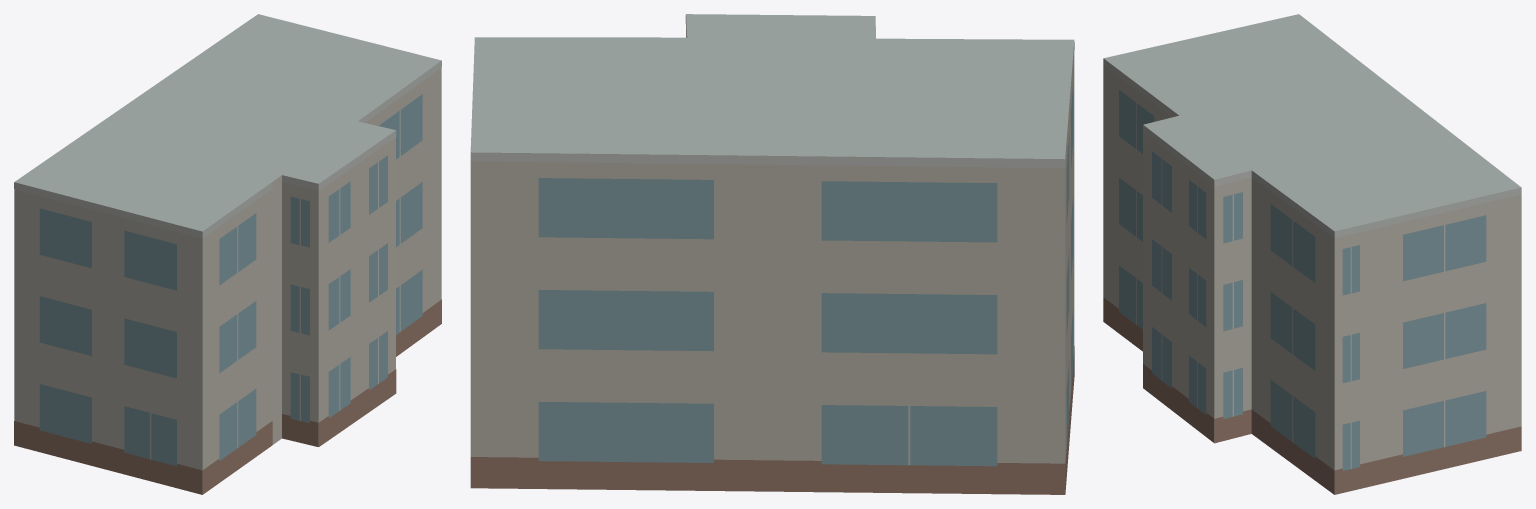
File: survey-upis-32707310.glb
The picture shows the model from 3 angles, left to right: view 1: azimuth 30°, elevation 25°; view 2: azimuth 150°, elevation 25°; view 3: azimuth 270°, elevation 25°; orthographic projection. The views are drawn at different scales.
Visible parts, largest first — view 1: survey-upis-32707310.tmp; view 2: survey-upis-32707310.tmp; view 3: survey-upis-32707310.tmp.
Boxes of the visible parts, left/top/right/bottom form: survey-upis-32707310.tmp: left=14, top=14, right=441, bottom=494; survey-upis-32707310.tmp: left=470, top=14, right=1074, bottom=494; survey-upis-32707310.tmp: left=1103, top=14, right=1521, bottom=494.
Bounding box in the file's own units: 16.2 × 9.15 × 13.17.
